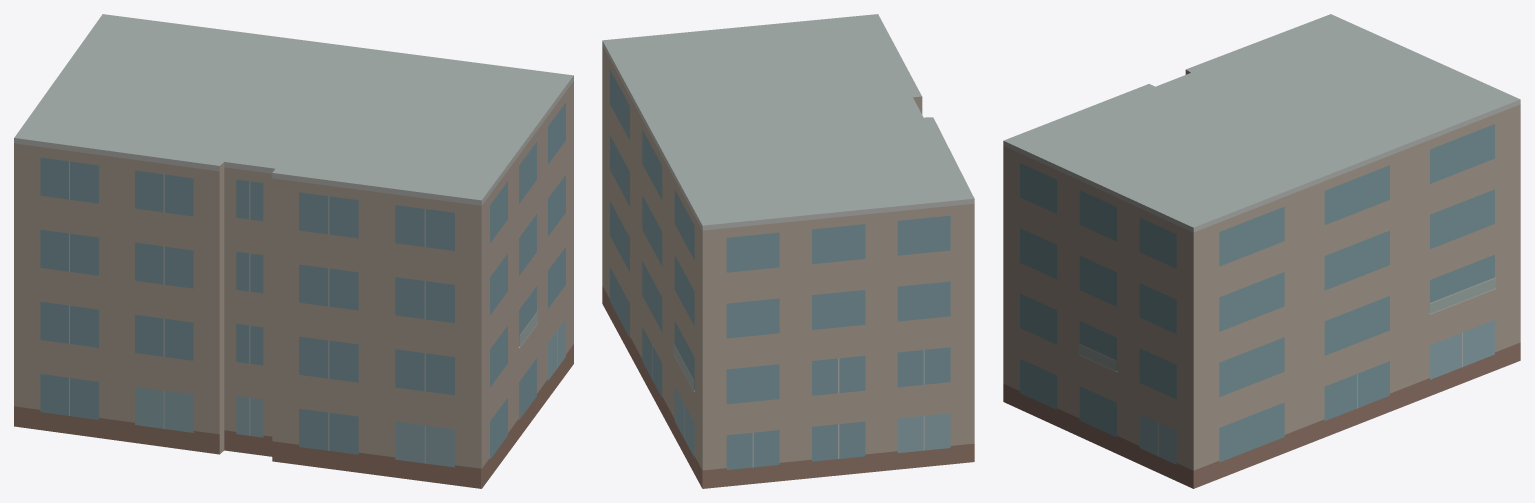
File: survey-upis-32527679.glb
3 views of the same model, side by side, from view 1: azimuth 30°, elevation 25°; view 2: azimuth 150°, elevation 25°; view 3: azimuth 270°, elevation 25° (orthographic). The views are drawn at different scales.
Parts seen in each view (by area): view 1: survey-upis-32527679.tmp; view 2: survey-upis-32527679.tmp; view 3: survey-upis-32527679.tmp.
Boxes of the visible parts, box(x1,y1,x2,y2) form: survey-upis-32527679.tmp: box(14, 14, 573, 488); survey-upis-32527679.tmp: box(602, 14, 974, 488); survey-upis-32527679.tmp: box(1003, 14, 1520, 488).
Bounding box in the file's own units: 22.82 × 13 × 23.34.
